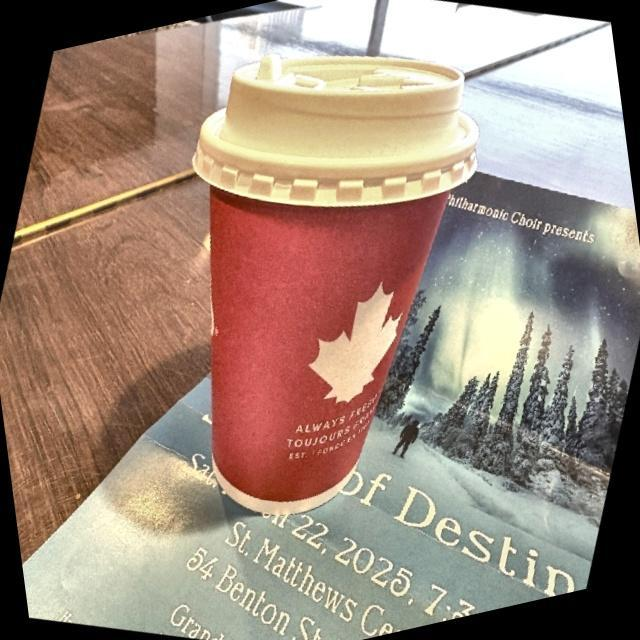timmies: (188, 43, 487, 524)
